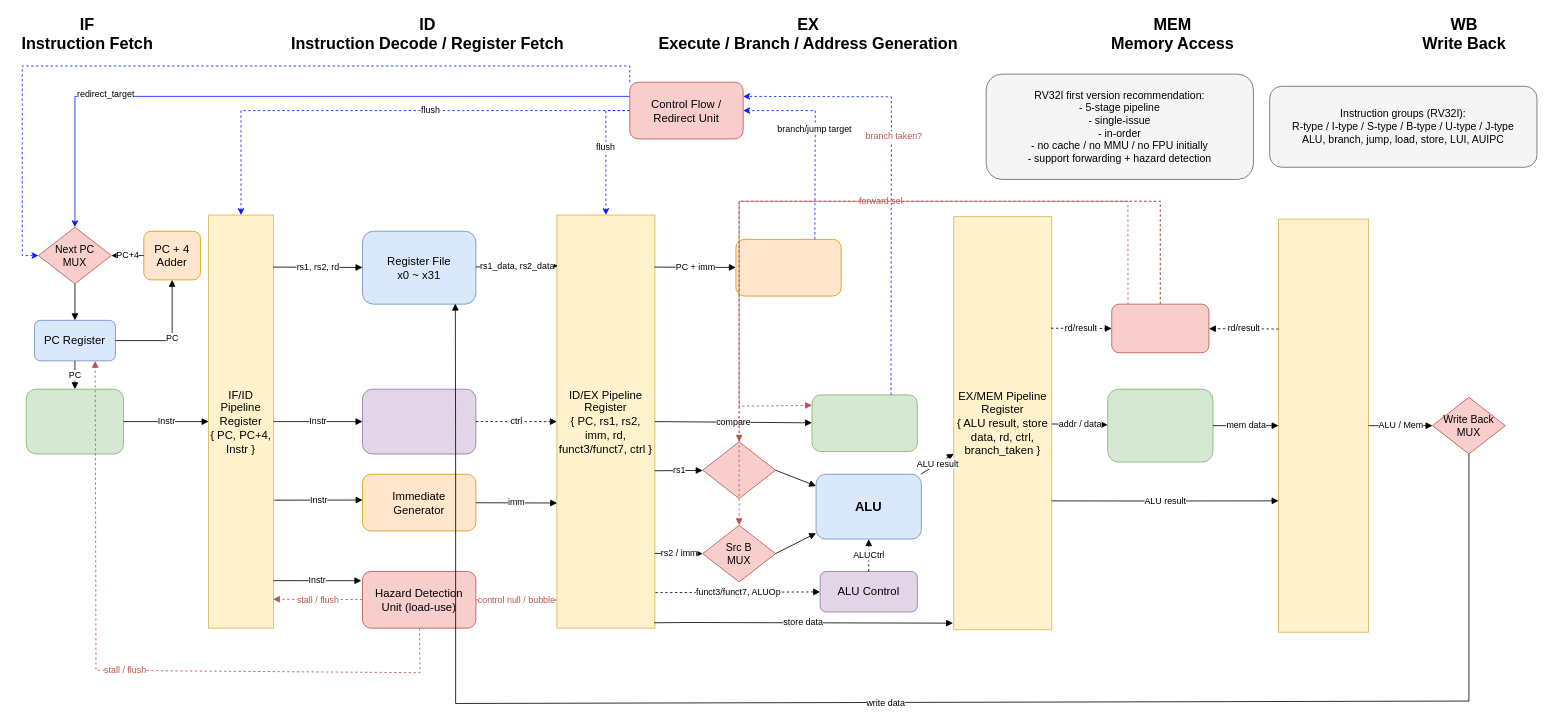
Some shapes in this 1551 by 724 pixel diagram are drawn without their labels. Each missing label, with the centre of its shape:
Branch / Jump Target Adder: (x=788, y=267)
Branch Comparator: (x=864, y=423)
Data Memory: (x=1160, y=425)
Forwarding Unit: (x=1160, y=328)
Instruction Memory: (x=75, y=421)
Main Decoder + Control Unit: (x=419, y=421)
MEM/WB Pipeline Register { mem data, ALU result, rd, ctrl }: (x=1323, y=425)
Src A MUX: (x=739, y=470)
